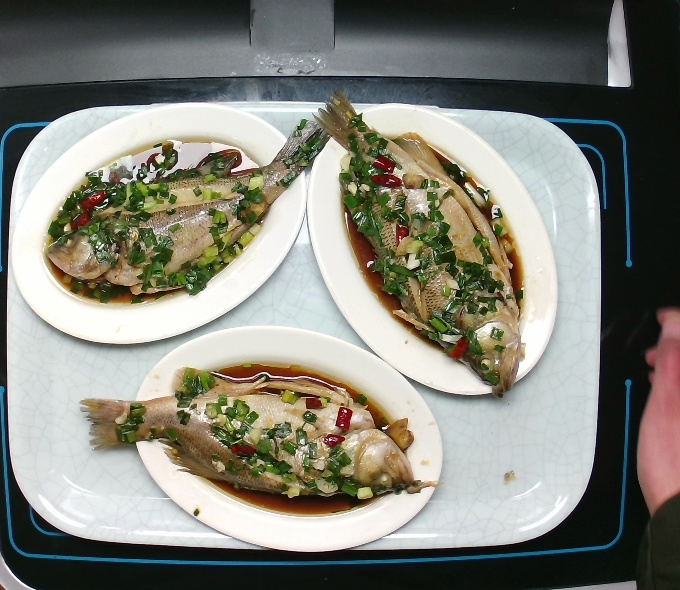wcq-LuYu: (312, 89, 532, 407), (74, 357, 450, 516), (37, 115, 334, 311)
